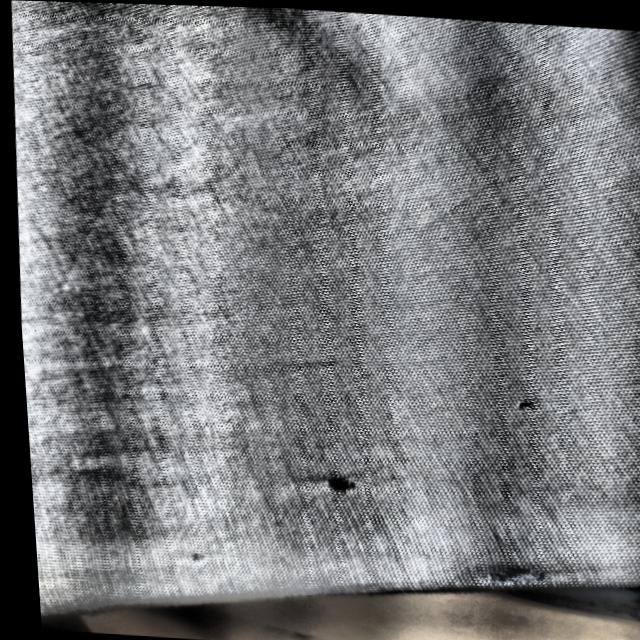Hole: (313, 463, 355, 497), (501, 389, 536, 415), (172, 543, 204, 565)
